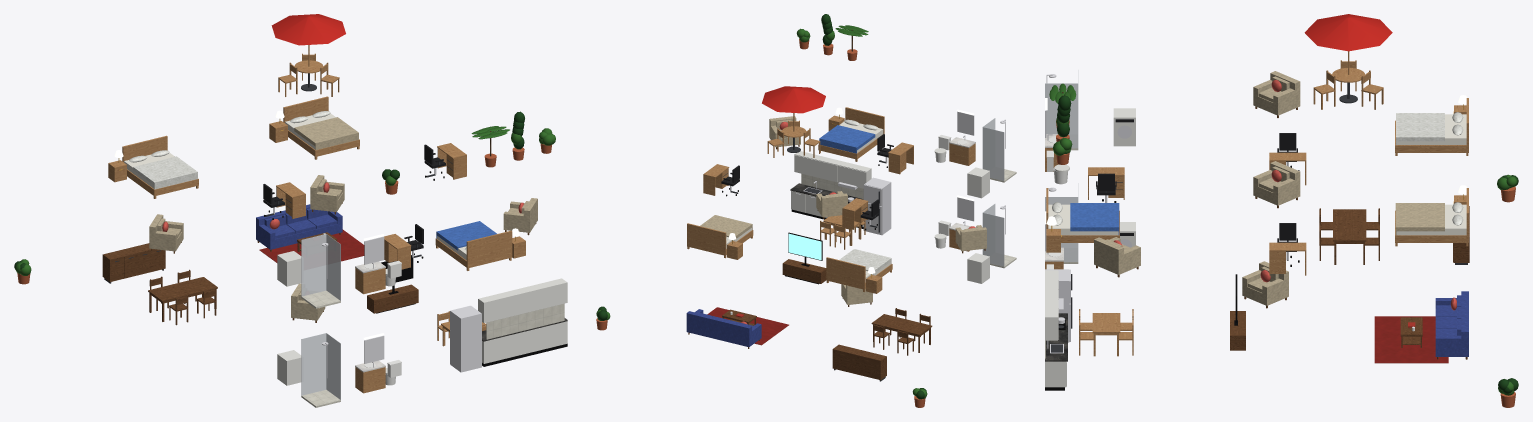
File: i_moroccan_riad.gltf
3 renders of one model, left to right at view 1: azimuth 30°, elevation 25°; view 2: azimuth 150°, elevation 25°; view 3: azimuth 270°, elevation 25°, orthographic. The views are drawn at different scales.
Visible parts, largest first — view 1: I_moroccan_riad; view 2: I_moroccan_riad; view 3: I_moroccan_riad.
Boxes of the visible parts, x1,y1,x2,y2 form: I_moroccan_riad: (14, 14, 567, 407); I_moroccan_riad: (596, 14, 1016, 407); I_moroccan_riad: (1045, 14, 1518, 407).
Bounding box in the file's own units: 13.69 × 9.05 × 12.85.
Materials: 31 (12 with a texture image).
